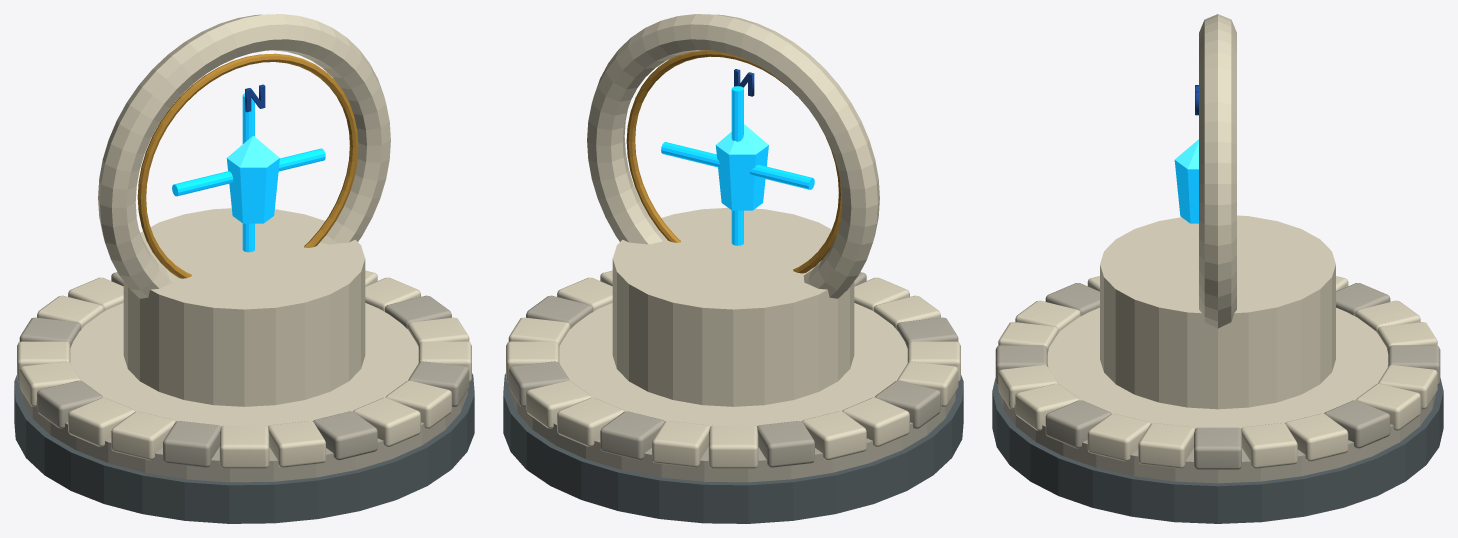
File: OBJ38_exploration_compass.glb
3 renders of one model, left to right at view 1: azimuth 30°, elevation 25°; view 2: azimuth 150°, elevation 25°; view 3: azimuth 270°, elevation 25°, orthographic. The views are drawn at different scales.
Visible parts, largest first — view 1: Compass pedestal, Compass housing, Foundation, Paving, Stone platform, Compass inner trim, Crystal shaft, Radial stone block.015, Radial stone block.017, Radial stone block.018, Radial stone block.016, Radial stone block.014 (+17 smaller); view 2: Compass pedestal, Compass housing, Foundation, Paving, Stone platform, Compass inner trim, Crystal shaft, Radial stone block.007, Radial stone block.009, Radial stone block.006, Radial stone block.008, Radial stone block.010 (+18 smaller); view 3: Compass pedestal, Foundation, Paving, Compass housing, Stone platform, Radial stone block.001, Radial stone block.023, Radial stone block.002, Radial stone block.022, Radial stone block, Radial stone block.003, Radial stone block.021 (+13 smaller).
Part boxes in pixels (left/top/right/bottom): Compass pedestal: left=123, top=208, right=365, bottom=406; Compass housing: left=98, top=14, right=390, bottom=298; Foundation: left=14, top=373, right=474, bottom=523; Paving: left=70, top=303, right=418, bottom=426; Stone platform: left=22, top=390, right=467, bottom=482; Compass inner trim: left=137, top=53, right=358, bottom=278; Crystal shaft: left=226, top=158, right=279, bottom=223; Radial stone block.015: left=163, top=421, right=220, bottom=467; Radial stone block.017: left=268, top=421, right=325, bottom=467; Radial stone block.018: left=313, top=411, right=377, bottom=460; Radial stone block.016: left=219, top=425, right=269, bottom=468; Radial stone block.014: left=111, top=411, right=175, bottom=460; Compass pedestal: left=612, top=208, right=854, bottom=406; Compass housing: left=587, top=14, right=879, bottom=298; Foundation: left=503, top=373, right=963, bottom=523; Paving: left=559, top=303, right=907, bottom=426; Stone platform: left=510, top=390, right=955, bottom=482; Compass inner trim: left=626, top=50, right=842, bottom=273; Crystal shaft: left=715, top=145, right=768, bottom=210; Radial stone block.007: left=652, top=421, right=709, bottom=467; Radial stone block.009: left=757, top=421, right=814, bottom=467; Radial stone block.006: left=600, top=411, right=664, bottom=460; Radial stone block.008: left=708, top=425, right=758, bottom=468; Radial stone block.010: left=802, top=411, right=866, bottom=460; Compass pedestal: left=1100, top=215, right=1335, bottom=409; Foundation: left=992, top=378, right=1443, bottom=523; Paving: left=1047, top=307, right=1388, bottom=428; Compass housing: left=1199, top=14, right=1236, bottom=328; Stone platform: left=999, top=393, right=1436, bottom=483; Radial stone block.001: left=1241, top=423, right=1297, bottom=468; Radial stone block.023: left=1138, top=423, right=1194, bottom=468; Radial stone block.002: left=1285, top=413, right=1348, bottom=461; Radial stone block.022: left=1087, top=413, right=1150, bottom=461; Radial stone block: left=1194, top=427, right=1241, bottom=469; Radial stone block.003: left=1324, top=400, right=1390, bottom=448; Radial stone block.021: left=1045, top=400, right=1111, bottom=448.
Size of the model in its own units: 2.6 by 2.54 by 2.6.
